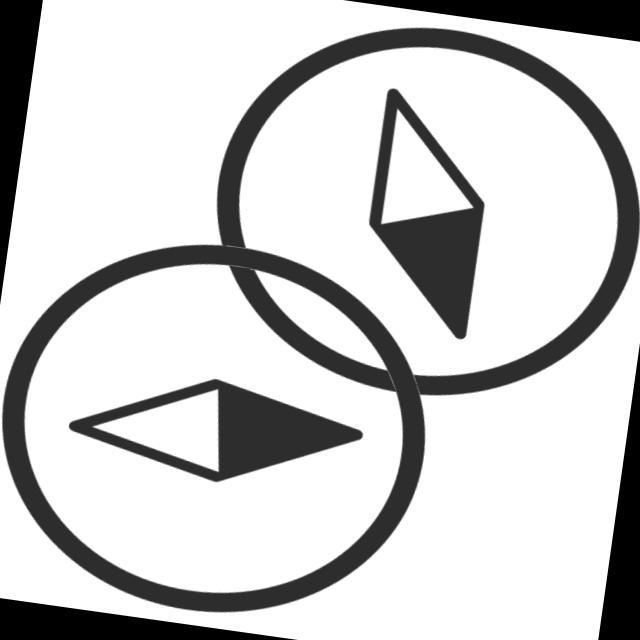compass: (181, 1, 640, 436), (1, 205, 457, 640)
